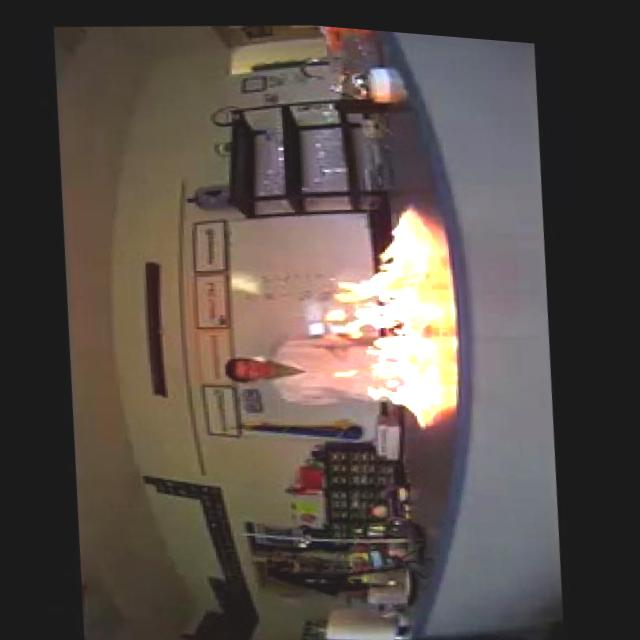helmet: (292, 188, 445, 431)
